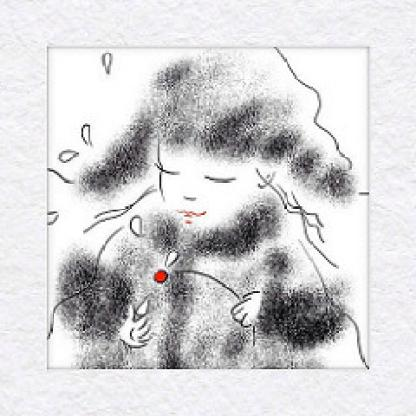ASTER: (39, 53, 129, 98)
